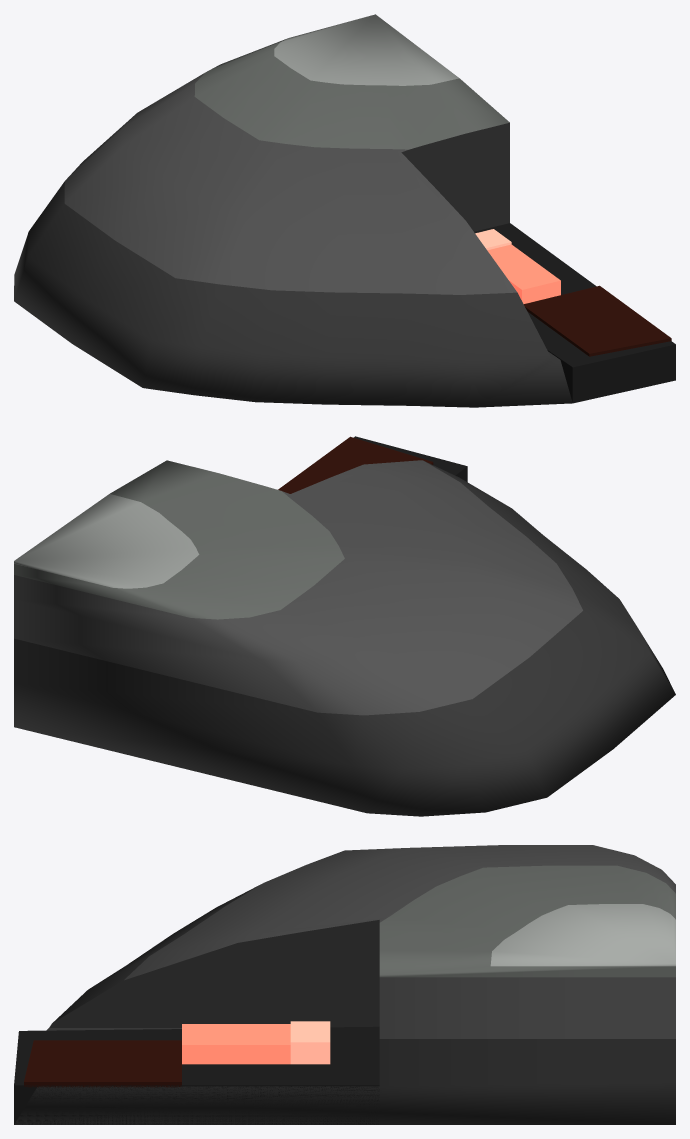
Rendered from newshu-38.glb.
The picture shows the model from 3 angles, top to bottom: view 1: azimuth 30°, elevation 25°; view 2: azimuth 150°, elevation 25°; view 3: azimuth 270°, elevation 25°; orthographic projection. The views are drawn at different scales.
Parts seen in each view (by area): view 1: newshu-38, newshu-38-slot; view 2: newshu-38, newshu-38-slot; view 3: newshu-38, newshu-38-slot.
Part boxes in pixels (<box>): newshu-38: <box>14,14,572,407</box>; newshu-38-slot: <box>474,223,675,403</box>; newshu-38: <box>14,460,675,816</box>; newshu-38-slot: <box>278,436,467,493</box>; newshu-38: <box>14,845,675,1124</box>; newshu-38-slot: <box>14,1021,379,1124</box>.
Size of the model in its own units: 0.8917 by 0.3 by 1.12.
